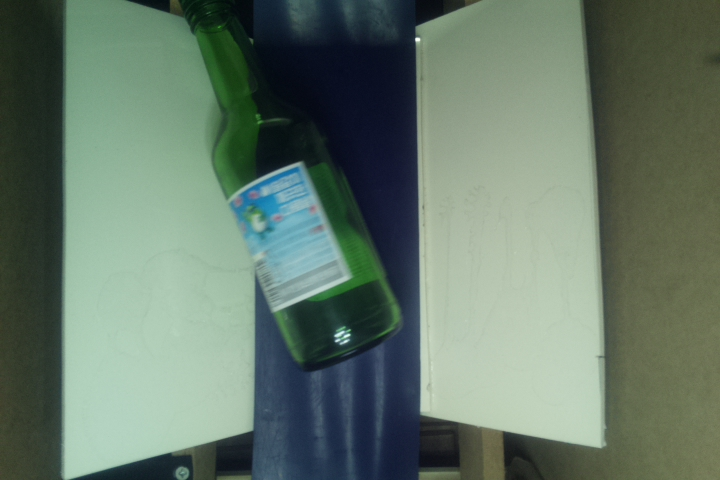soju: (180, 1, 408, 372)
